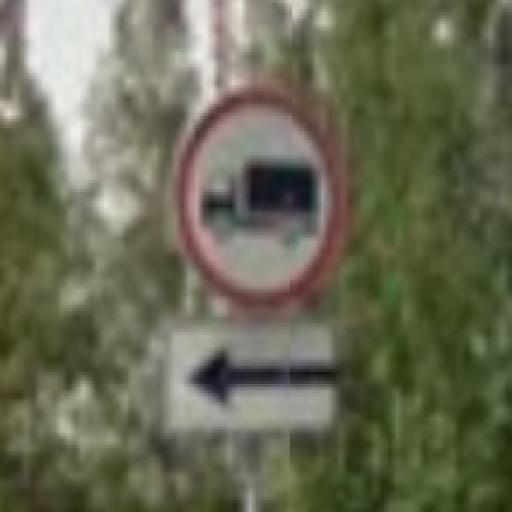traffic_sign: (173, 83, 347, 312)
